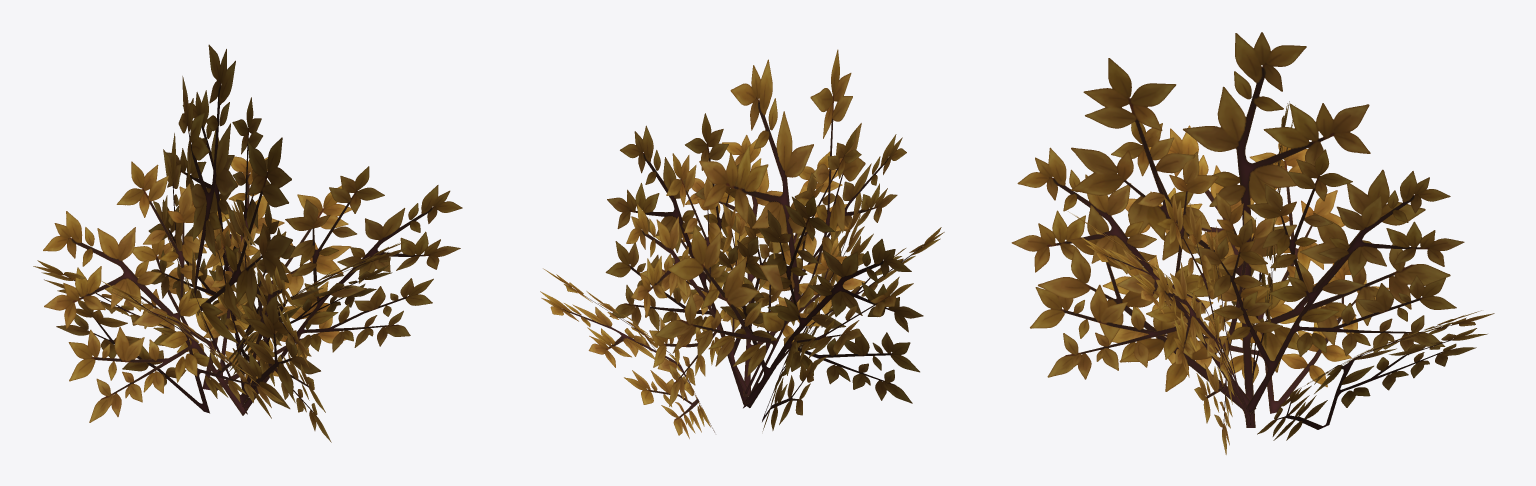
Rendered from bush3.fbx.
The picture shows the model from 3 angles, left to right: view 1: azimuth 30°, elevation 25°; view 2: azimuth 150°, elevation 25°; view 3: azimuth 270°, elevation 25°; orthographic projection. The views are drawn at different scales.
Parts seen in each view (by area): view 1: bush3; view 2: bush3; view 3: bush3.
Boxes of the visible parts, x1,y1,x2,y2 form: bush3: [33, 44, 462, 442]; bush3: [540, 49, 944, 438]; bush3: [1011, 32, 1494, 454].
Bounding box in the file's own units: 276 × 243 × 288.
